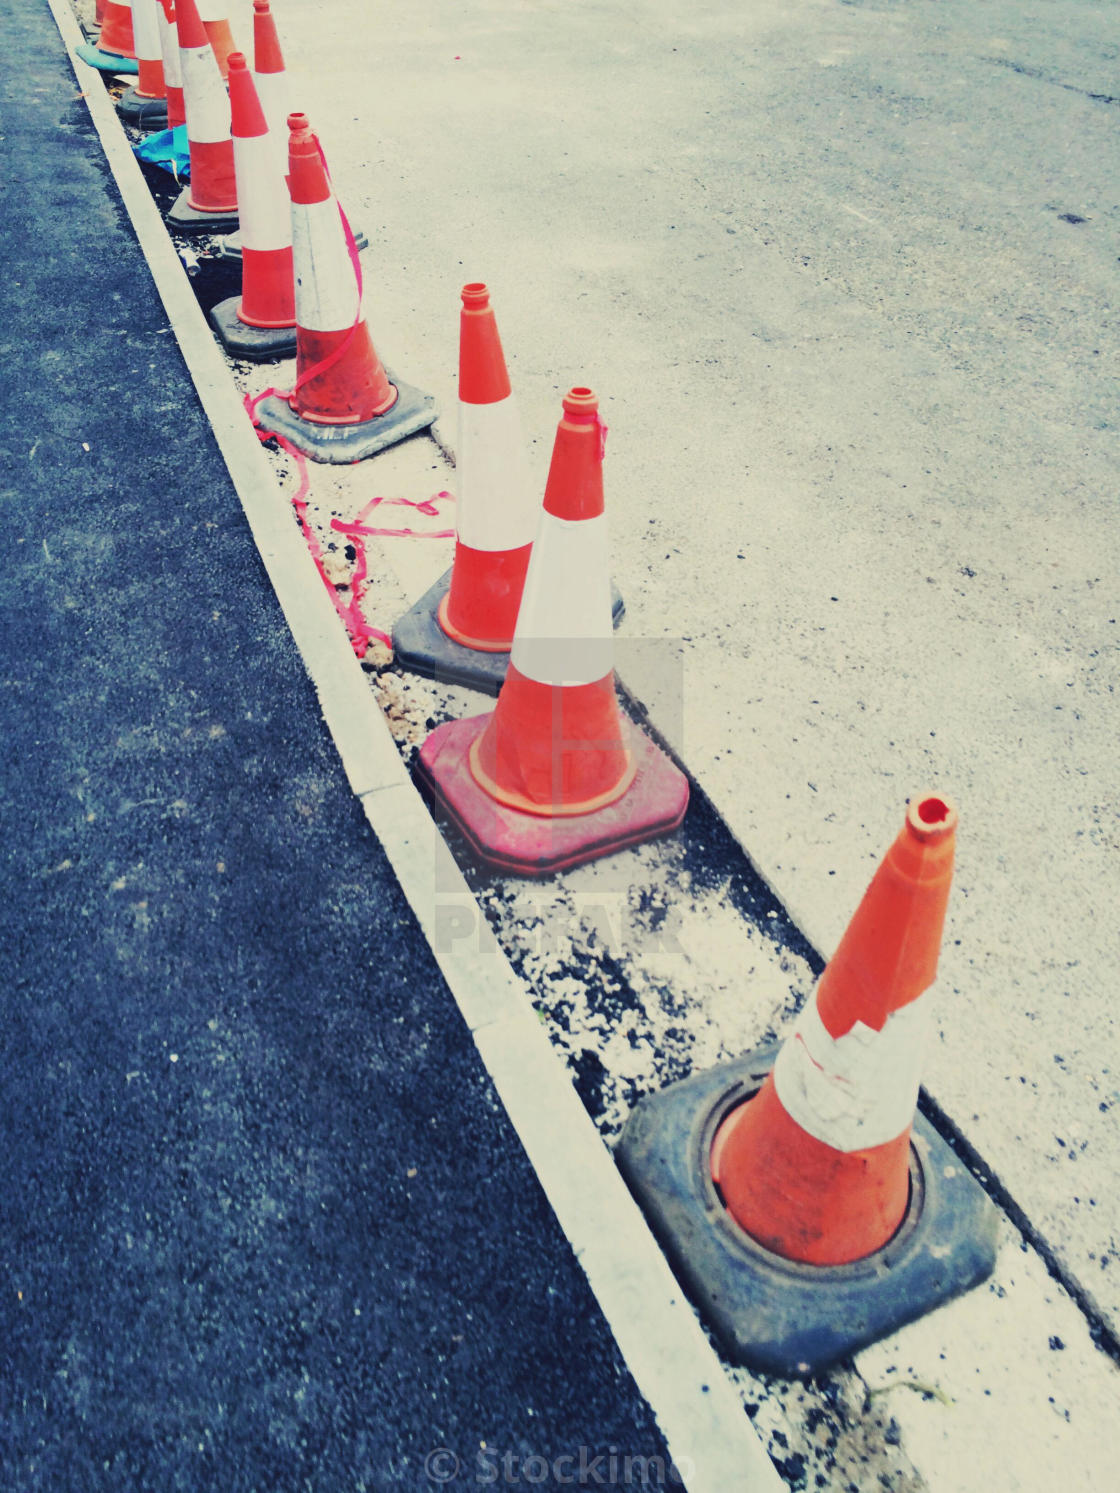cone: (625, 800, 1007, 1373), (411, 389, 684, 879), (389, 276, 634, 692), (242, 115, 440, 456), (204, 56, 365, 366), (152, 1, 284, 236)
